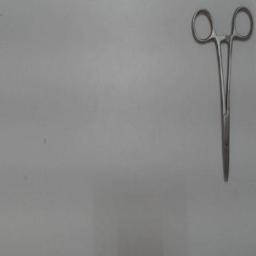Mayo Needle Holder: (188, 2, 254, 188)
